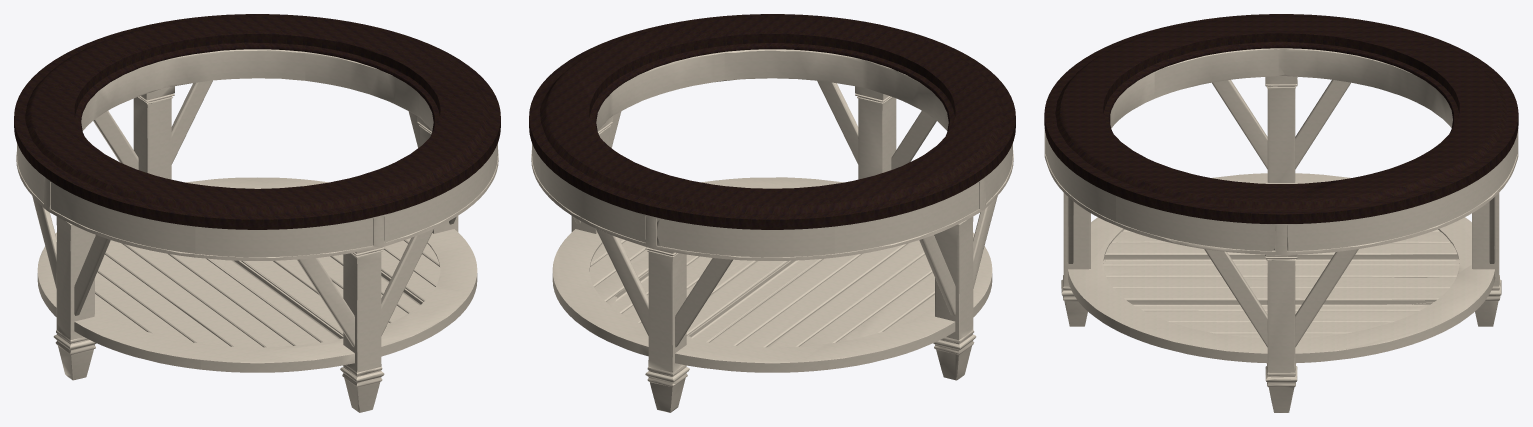
File: demaree.fbx
The picture shows the model from 3 angles, left to right: view 1: azimuth 30°, elevation 25°; view 2: azimuth 150°, elevation 25°; view 3: azimuth 270°, elevation 25°; orthographic projection. The views are drawn at different scales.
Parts seen in each view (by area): view 1: Component1, Component4_1; view 2: Component1, Component4_1; view 3: Component1, Component4_1.
Part boxes in pixels (x1,y1,x2,y2): Component1: (16, 49, 498, 412); Component4_1: (14, 14, 500, 229); Component1: (531, 49, 1013, 412); Component4_1: (529, 14, 1015, 229); Component1: (1044, 48, 1518, 412); Component4_1: (1044, 14, 1518, 223).
Size of the model in its own units: 39.98 by 20 by 39.98.
